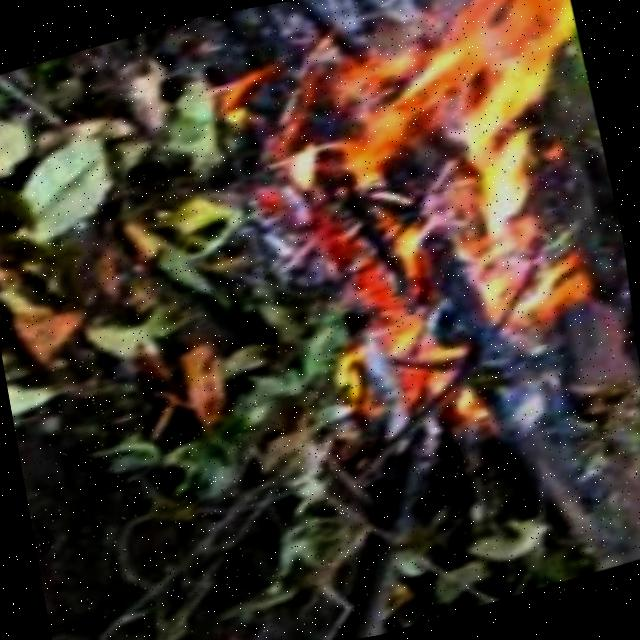fire: (252, 0, 640, 462)
